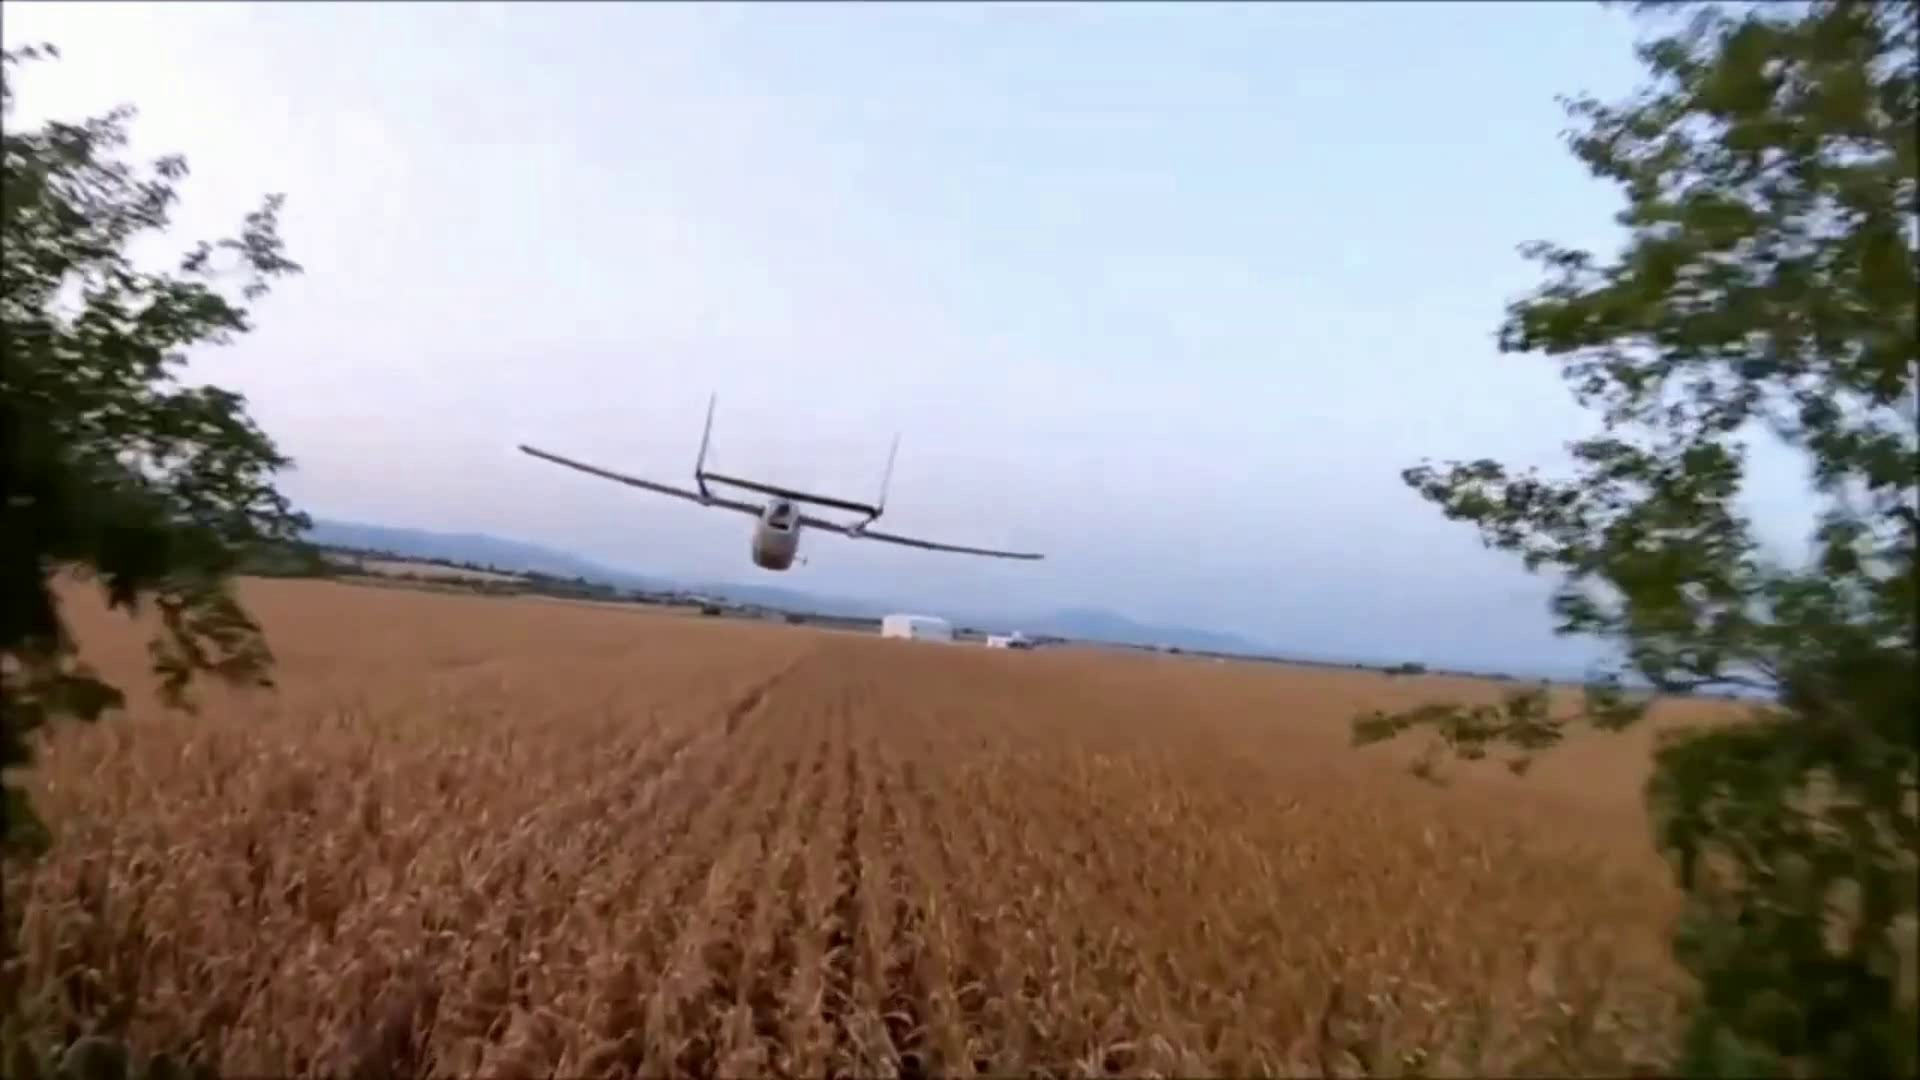airplane: (512, 390, 1047, 575)
